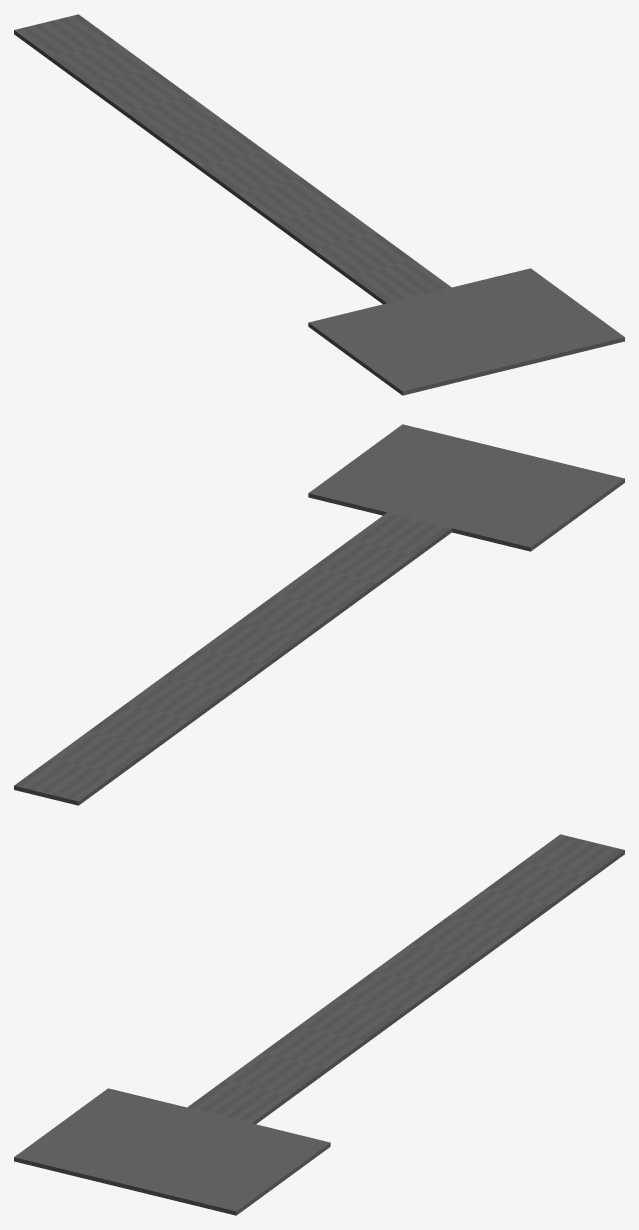
File: SM_Pier_Bridge.fbx
3 views of the same model, one above another, from view 1: azimuth 30°, elevation 25°; view 2: azimuth 150°, elevation 25°; view 3: azimuth 330°, elevation 25° (orthographic).
Visible parts, largest first — view 1: SM_Pier_Bridge; view 2: SM_Pier_Bridge; view 3: SM_Pier_Bridge.
Boxes of the visible parts, left/top/right/bottom form: SM_Pier_Bridge: left=14, top=14, right=624, bottom=395; SM_Pier_Bridge: left=14, top=424, right=624, bottom=805; SM_Pier_Bridge: left=14, top=834, right=624, bottom=1215.
Size of the model in its own units: 2751 by 10019 by 50.
1 material, 1 textured.
